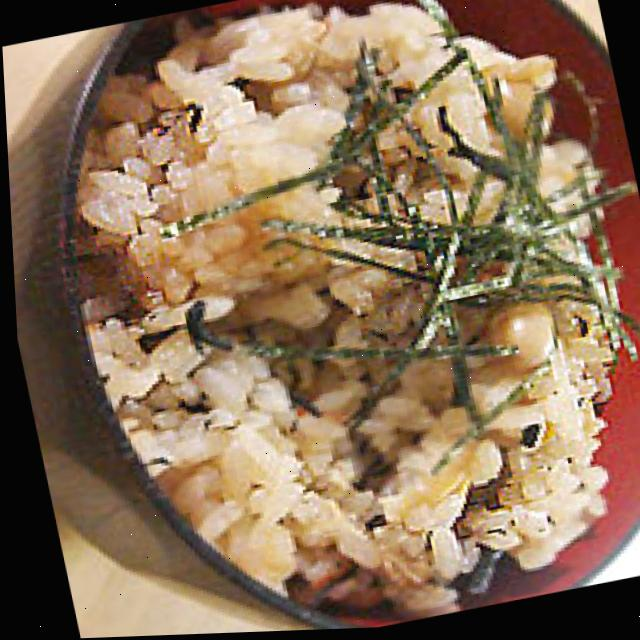米饭主食: (28, 0, 640, 639)
